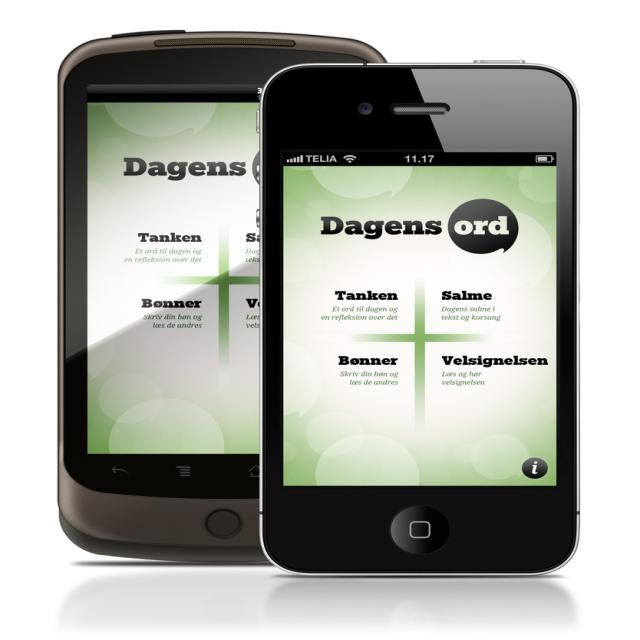Mobile-phone: (55, 27, 392, 564), (256, 57, 580, 577)
